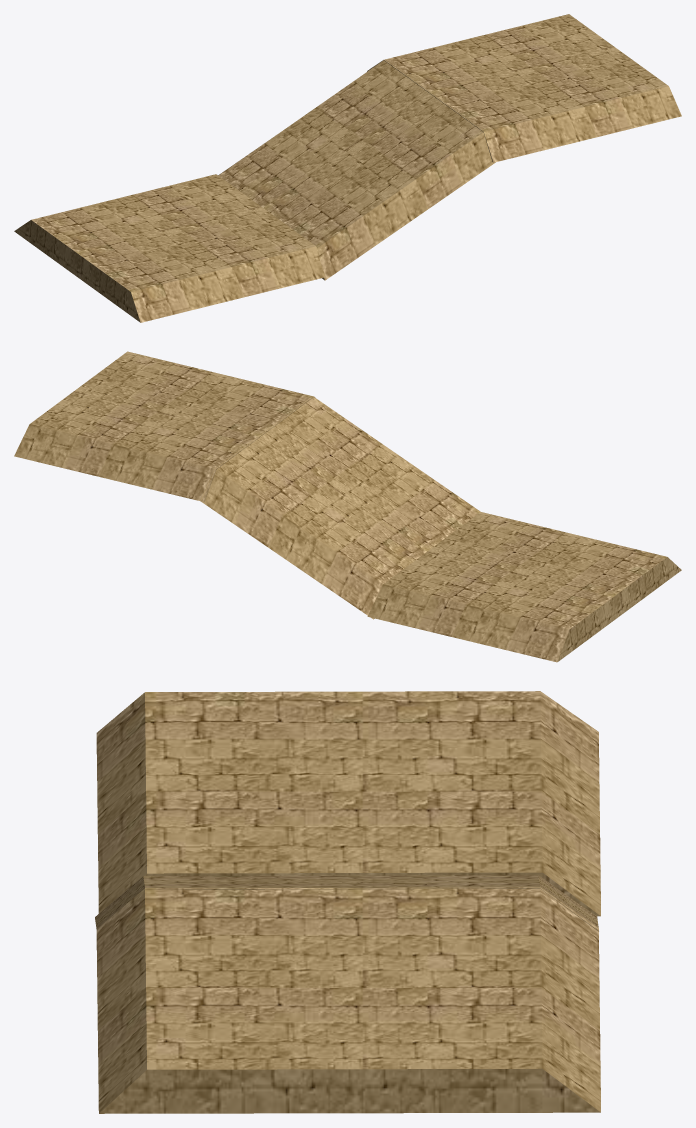
Rendered from Platform_5.fbx.
3 renders of one model, top to bottom at view 1: azimuth 30°, elevation 25°; view 2: azimuth 150°, elevation 25°; view 3: azimuth 270°, elevation 25°, orthographic. The views are drawn at different scales.
Parts seen in each view (by area): view 1: polySurface6, polySurface7, polySurface5; view 2: polySurface6, polySurface7, polySurface5; view 3: polySurface5, polySurface7, polySurface6.
Boxes of the visible parts, x1,y1,x2,y2 form: polySurface6: (218,59,496,280); polySurface7: (14,174,325,322); polySurface5: (367,14,681,162); polySurface6: (200,396,480,619); polySurface7: (367,512,681,662); polySurface5: (14,351,315,501); polySurface5: (96,887,600,1113); polySurface7: (96,691,600,916); polySurface6: (95,875,598,931).
Bounding box in the file's own units: 5.89 × 1.02 × 2.38.
